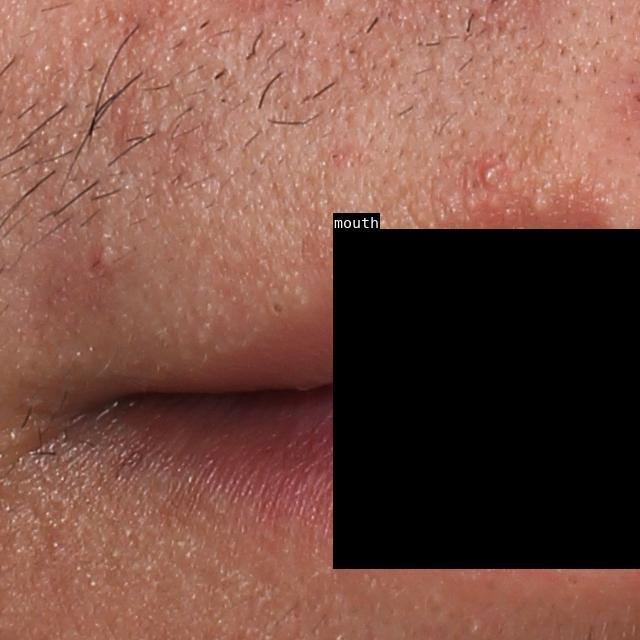comedo: (268, 298, 287, 320)
pustule: (477, 163, 500, 190)
